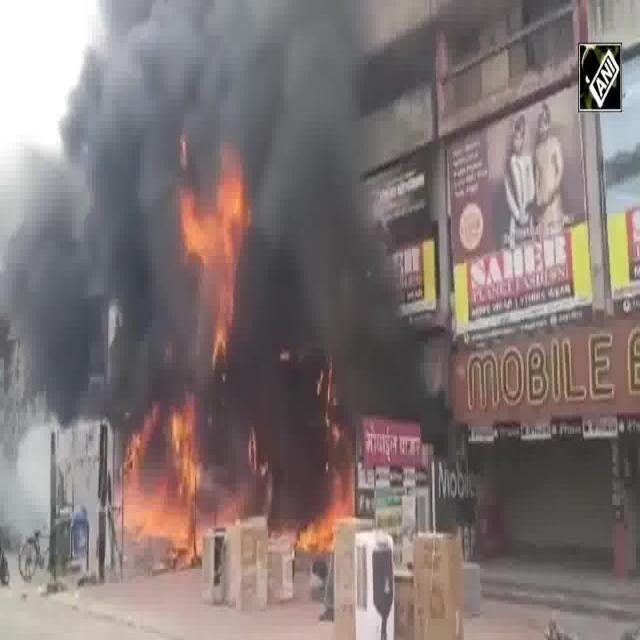smoke: (97, 0, 333, 158), (14, 183, 173, 403), (262, 172, 364, 371)
